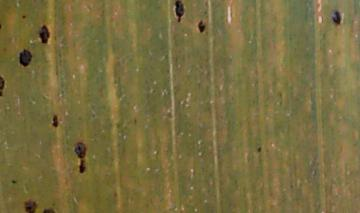tarspot: (72, 141, 90, 174), (171, 1, 186, 25), (17, 48, 34, 68), (37, 23, 51, 45), (23, 197, 38, 213), (330, 9, 343, 27), (196, 19, 208, 34), (1, 73, 8, 98), (50, 114, 59, 128), (41, 206, 56, 213), (255, 145, 263, 153), (10, 177, 17, 186), (19, 13, 27, 20), (1, 21, 3, 32)
